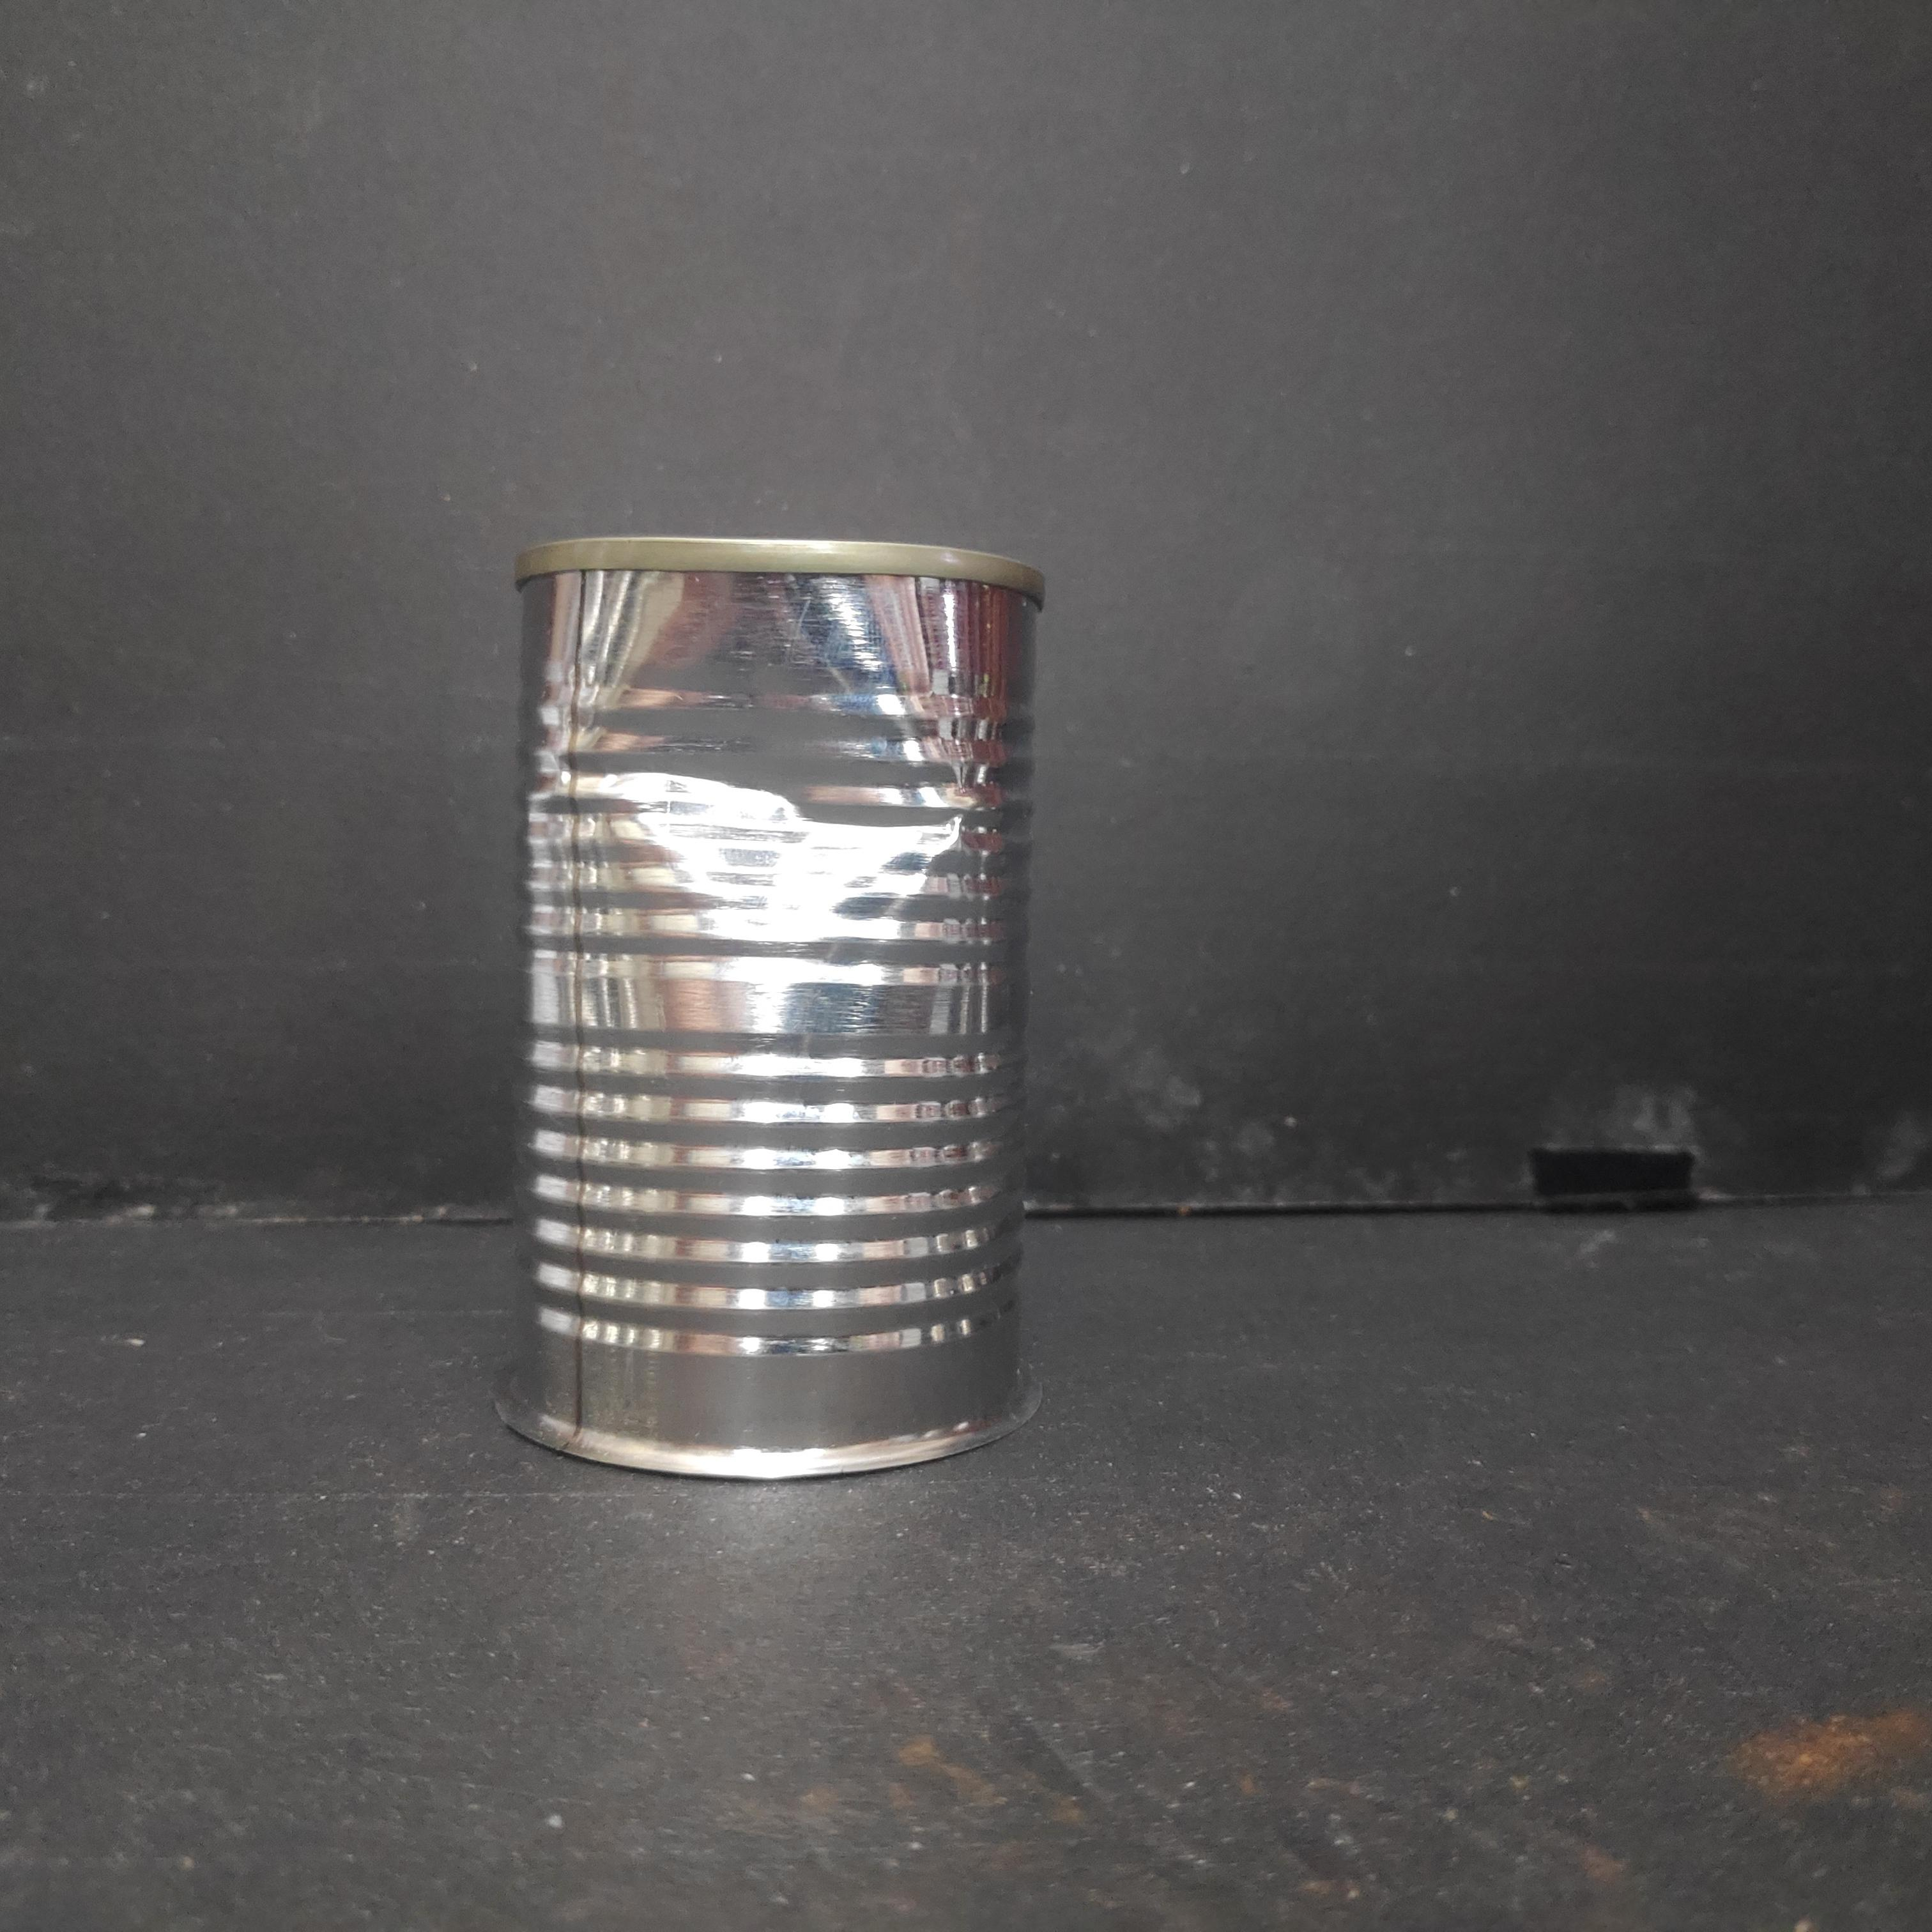Minor Defect: (499, 522, 1051, 1488)
